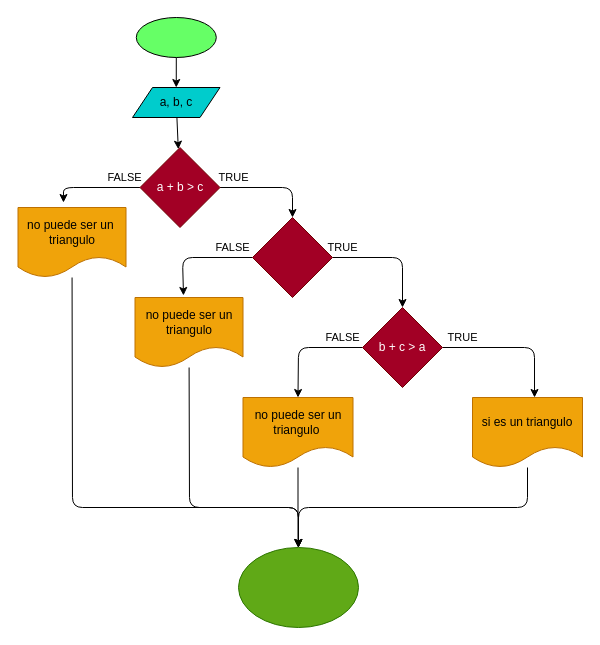
Some shapes in this 600 by 645 pixel diagram are drawn without their labels. The shapes that lost their labels are listed below. From the top down, each one's box as (x1, y1, x2, y2) in pixels, then its label:
(135, 16, 216, 58): INICIO
(252, 216, 332, 298): a + c > b
(238, 546, 358, 628): FIN
